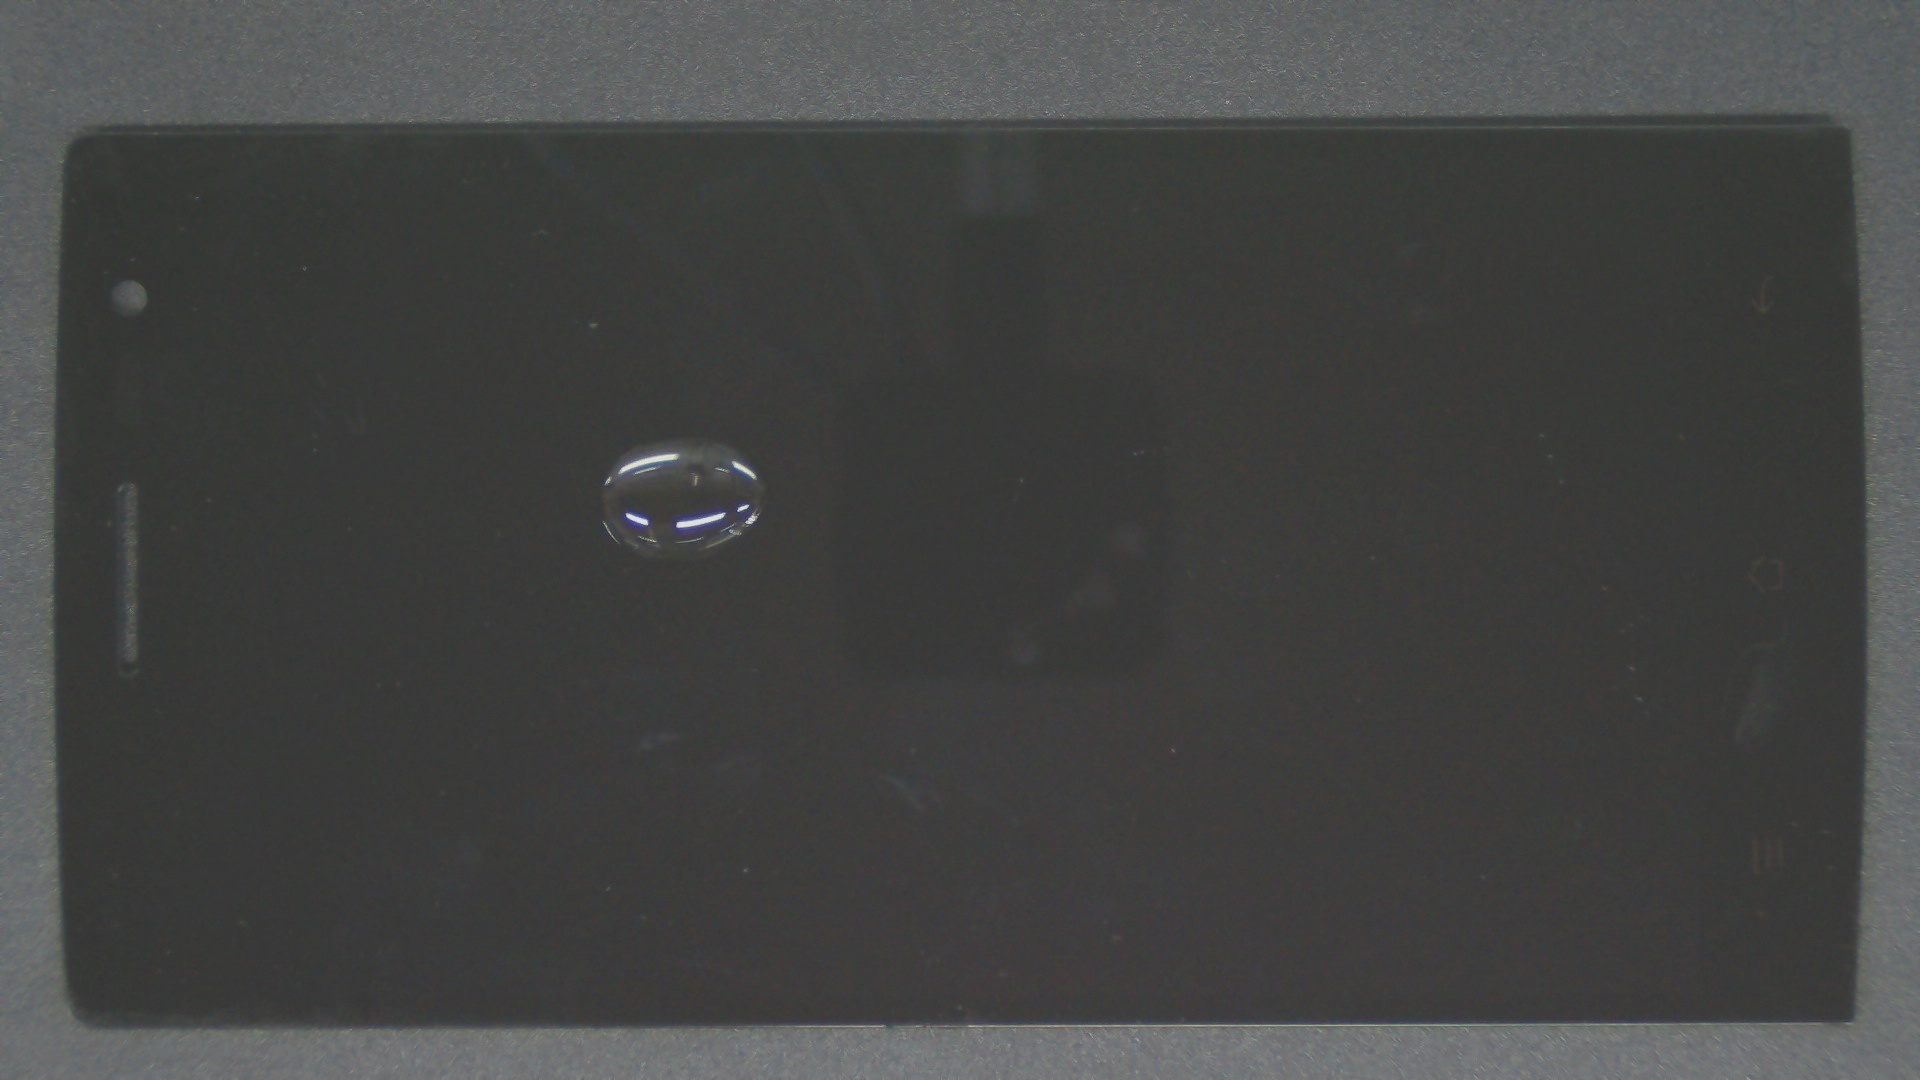oil: (343, 218, 1027, 655)
